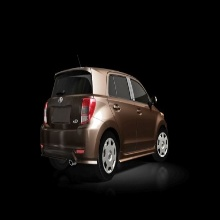no damage: (41, 66, 171, 178)
